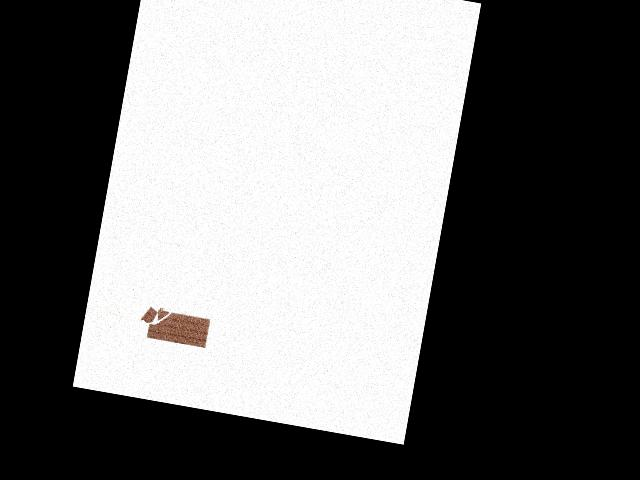chocolate: (136, 298, 213, 352)
